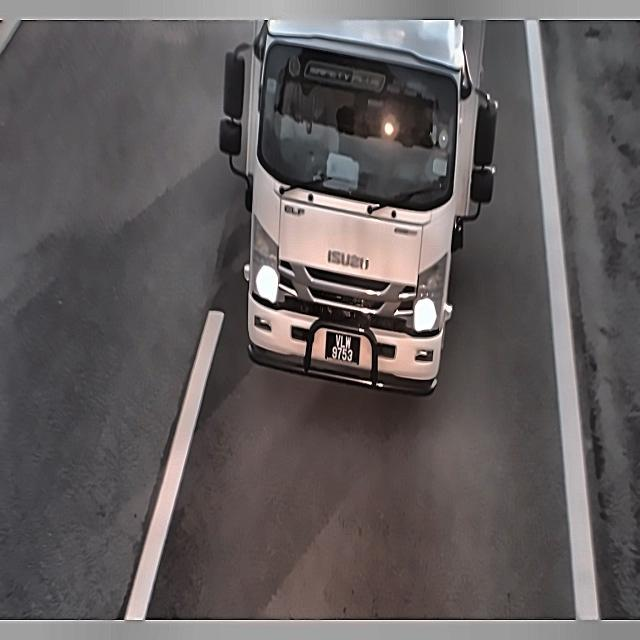car: (322, 319, 359, 370)
